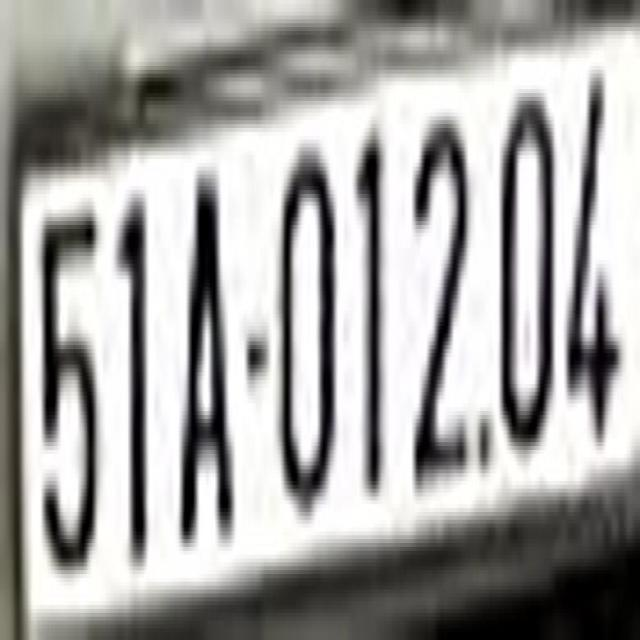0: (496, 70, 558, 462), (276, 136, 336, 539)
1: (111, 194, 152, 582), (352, 120, 385, 504)
2: (409, 116, 469, 492)
4: (563, 58, 622, 450)
5: (38, 190, 98, 574)
A: (172, 163, 235, 551)
